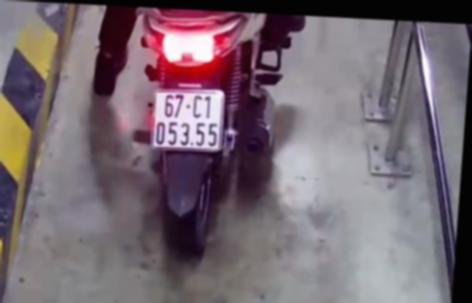License_Plate: (144, 85, 232, 156)
